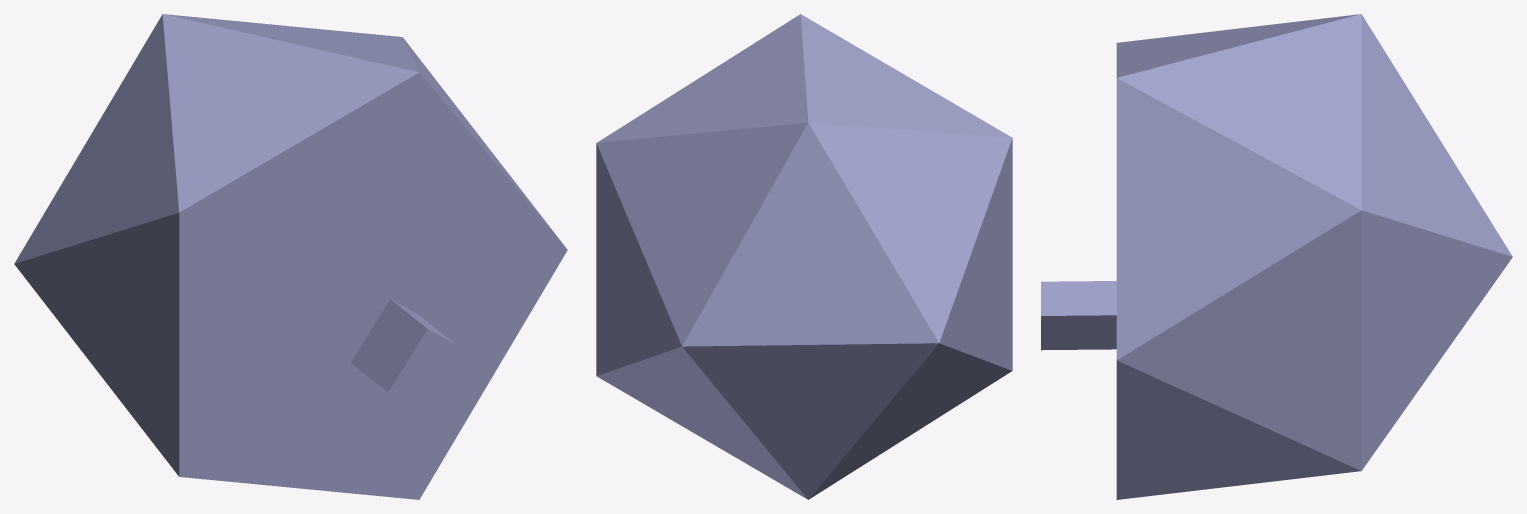
Rendered from ico-room.fbx.
3 renders of one model, left to right at view 1: azimuth 30°, elevation 25°; view 2: azimuth 150°, elevation 25°; view 3: azimuth 270°, elevation 25°, orthographic. The views are drawn at different scales.
Parts seen in each view (by area): view 1: ico-room; view 2: ico-room; view 3: ico-room.
Boxes of the visible parts, x1,y1,x2,y2 form: ico-room: [14, 14, 567, 499]; ico-room: [596, 14, 1012, 499]; ico-room: [1041, 14, 1512, 499].
Bounding box in the file's own units: 894 × 851 × 862.
